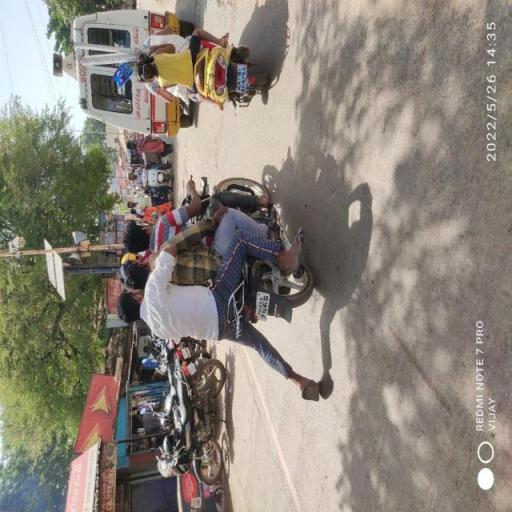tripple riding: (110, 180, 240, 342)
